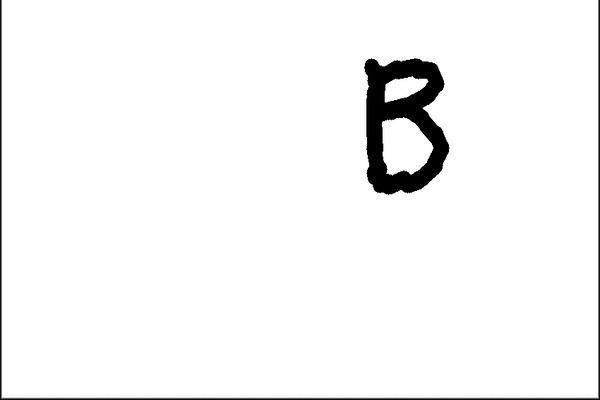B: (351, 45, 453, 198)
